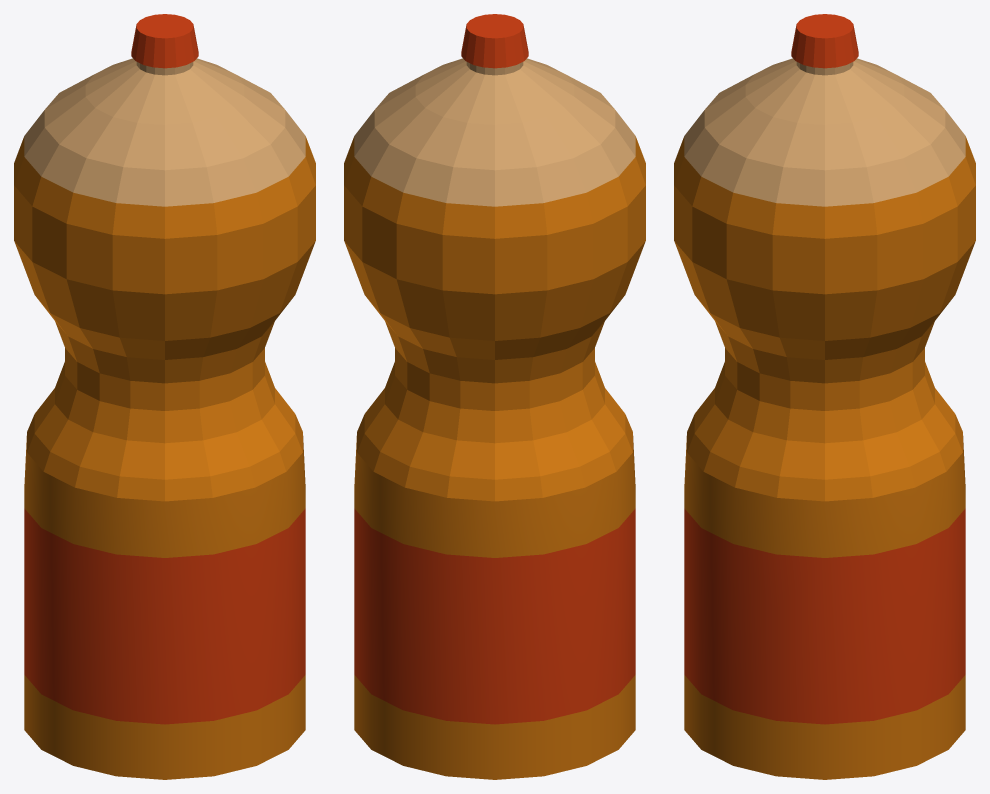
File: BoteFanta.fbx
3 renders of one model, left to right at view 1: azimuth 30°, elevation 25°; view 2: azimuth 150°, elevation 25°; view 3: azimuth 270°, elevation 25°, orthographic.
Visible parts, largest first — view 1: Cylinder001; view 2: Cylinder001; view 3: Cylinder001.
Part boxes in pixels (bbox=[...]): Cylinder001: bbox=[14, 14, 315, 779]; Cylinder001: bbox=[344, 14, 645, 779]; Cylinder001: bbox=[674, 14, 975, 779].
Bounding box in the file's own units: 0.3003 × 0.75 × 0.2957.
